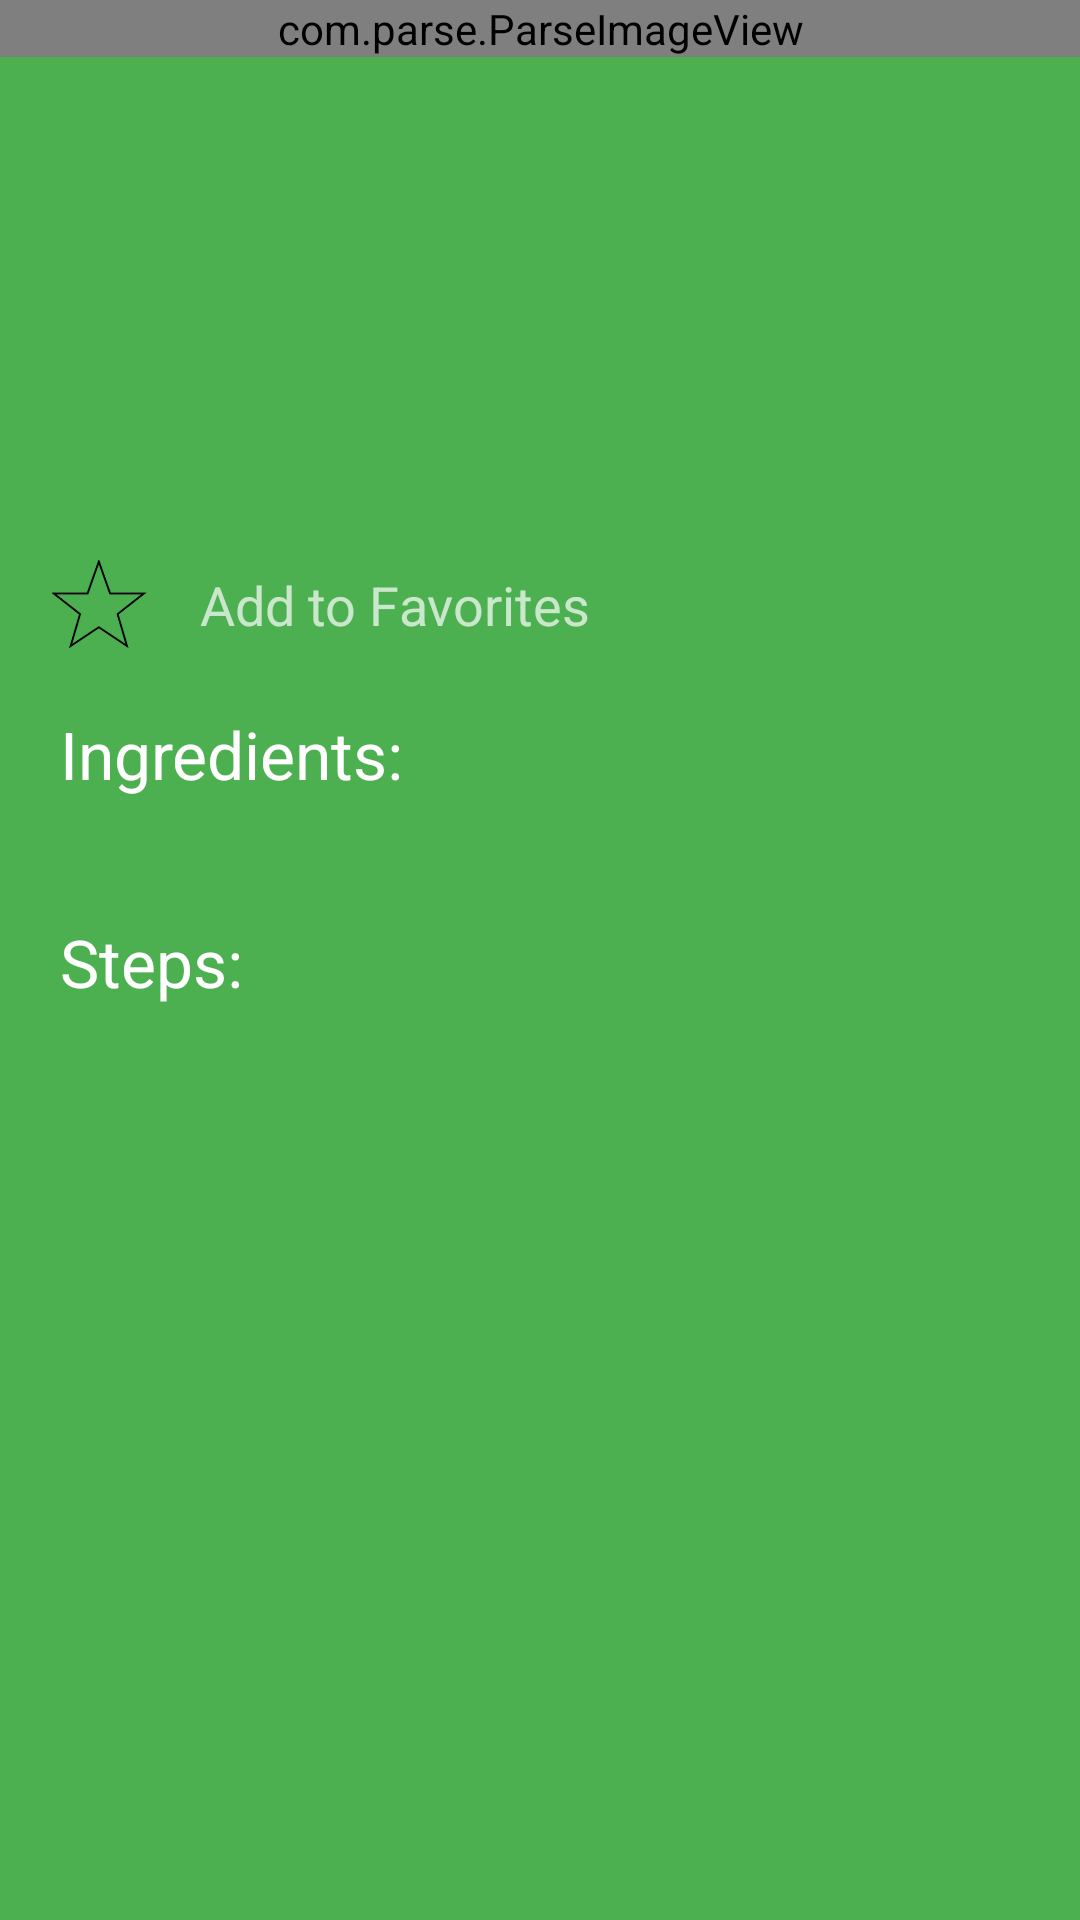

Icons on this 1080*1920 Android screen, each with its box as (x1, y1, x2, y2):
favorite false: (52, 560, 147, 648)
